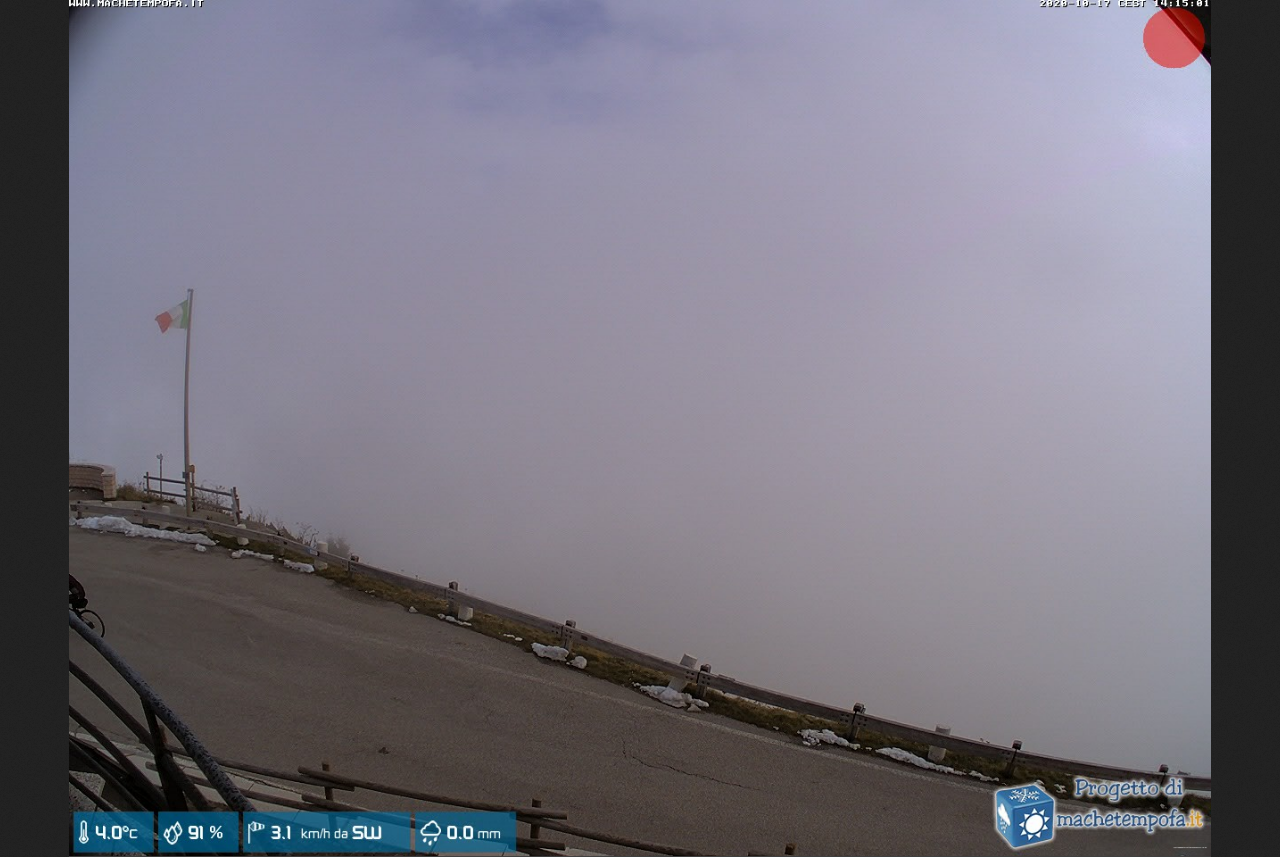yes: (150, 298, 189, 333)
